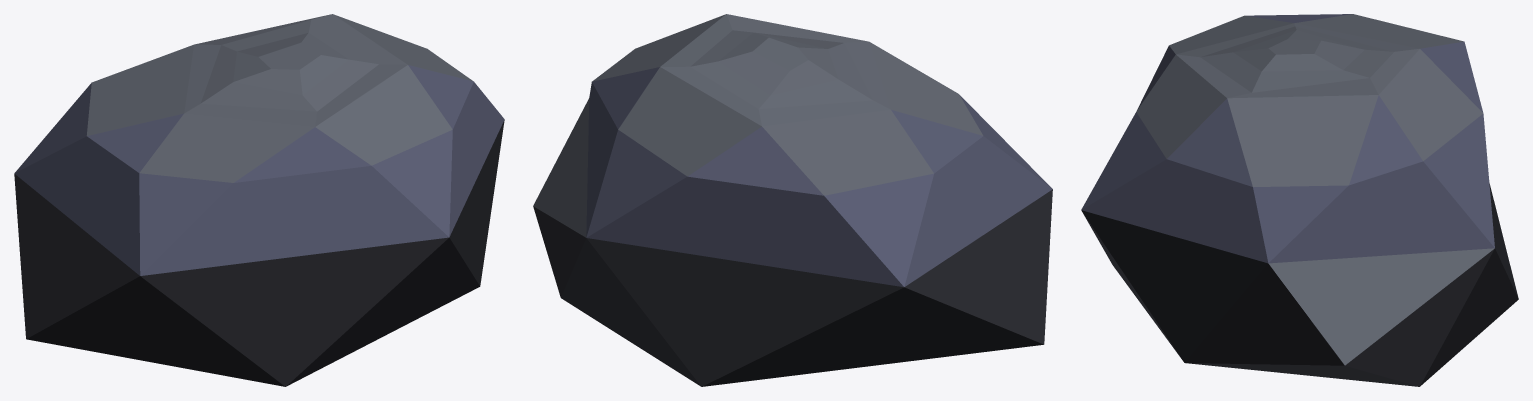
The model's file is ROCK 1 (BIG).fbx.
The picture shows the model from 3 angles, left to right: view 1: azimuth 30°, elevation 25°; view 2: azimuth 150°, elevation 25°; view 3: azimuth 270°, elevation 25°; orthographic projection. The views are drawn at different scales.
Visible parts, largest first — view 1: rock1; view 2: rock1; view 3: rock1.
Part boxes in pixels (box(x1,y1,x2,y2)): rock1: box(14, 14, 504, 386); rock1: box(533, 14, 1052, 386); rock1: box(1081, 14, 1518, 386).
Size of the model in its own units: 423 by 209 by 308.
